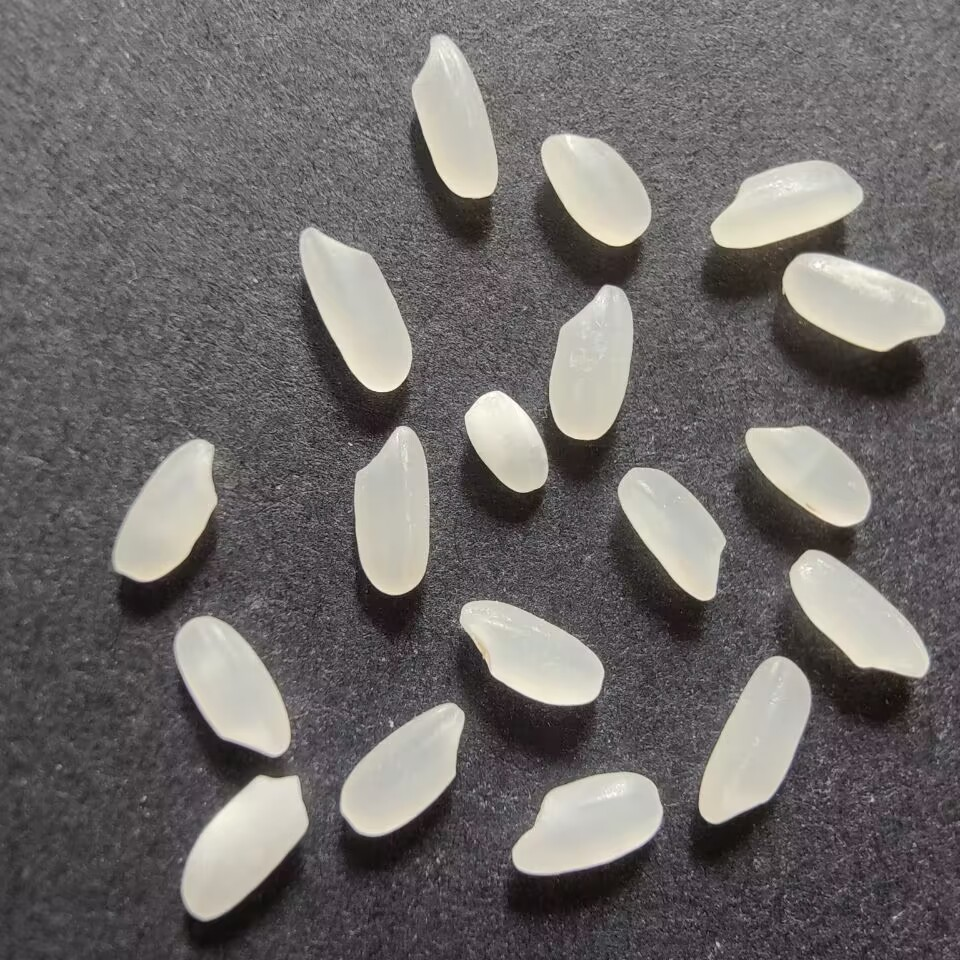broken: (461, 386, 555, 497)
rice: (176, 762, 316, 927), (292, 225, 418, 401), (692, 652, 816, 826), (786, 541, 933, 683), (167, 614, 300, 764), (503, 762, 666, 881), (778, 247, 950, 359), (336, 700, 469, 842), (103, 436, 227, 585), (453, 596, 609, 714), (612, 463, 732, 609), (345, 420, 437, 604), (409, 28, 503, 205), (740, 420, 878, 538), (542, 277, 638, 446), (704, 155, 873, 250), (531, 126, 655, 247)
